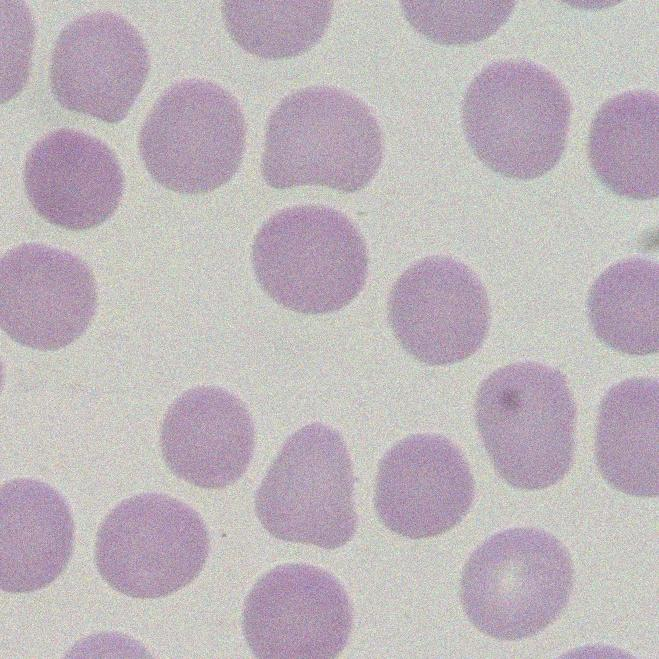Uninfected: (250, 206, 372, 315), (462, 522, 573, 640), (257, 424, 360, 551), (258, 84, 380, 190), (477, 362, 574, 492), (92, 492, 207, 600), (140, 77, 248, 191), (467, 62, 569, 176), (387, 252, 487, 363), (0, 242, 99, 350), (377, 431, 476, 537), (162, 384, 259, 491), (48, 14, 147, 118), (23, 129, 121, 233), (243, 562, 348, 659), (0, 481, 73, 592), (593, 89, 659, 200), (588, 257, 658, 354)
